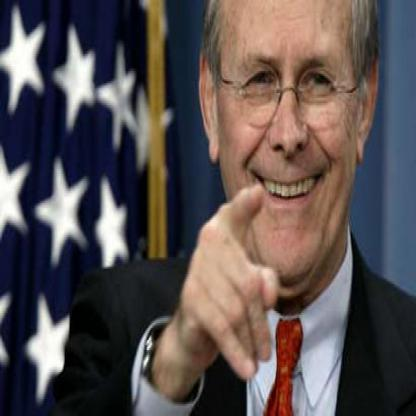face: (216, 1, 364, 289)
